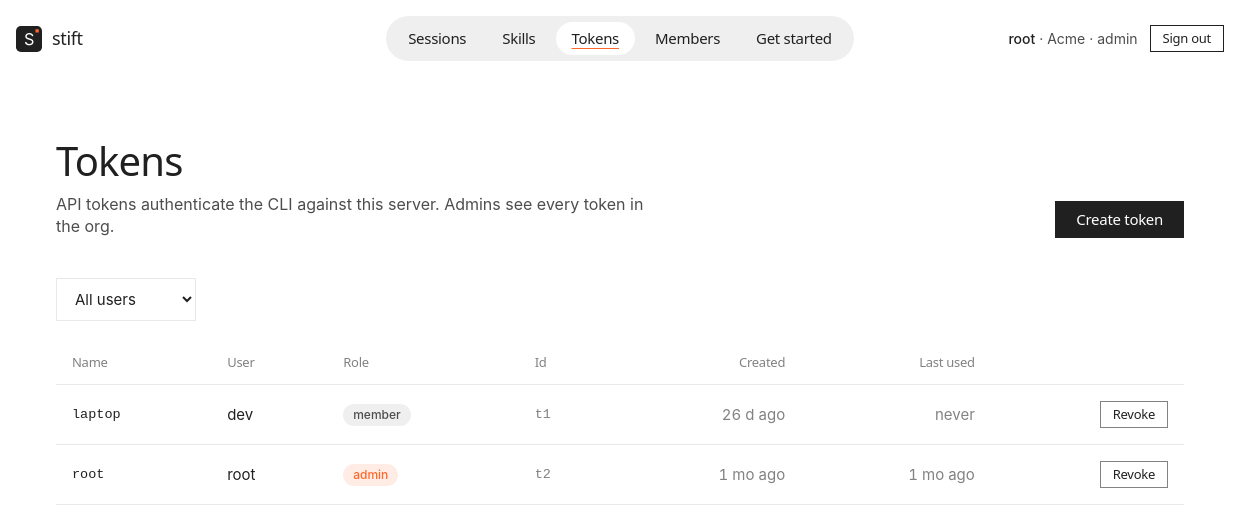
Test: revoke confirms inline and surfaces the server's refusal
Click the button "Revoke" in the row of "laptop": (1134, 415) [1100,401,1168,428]
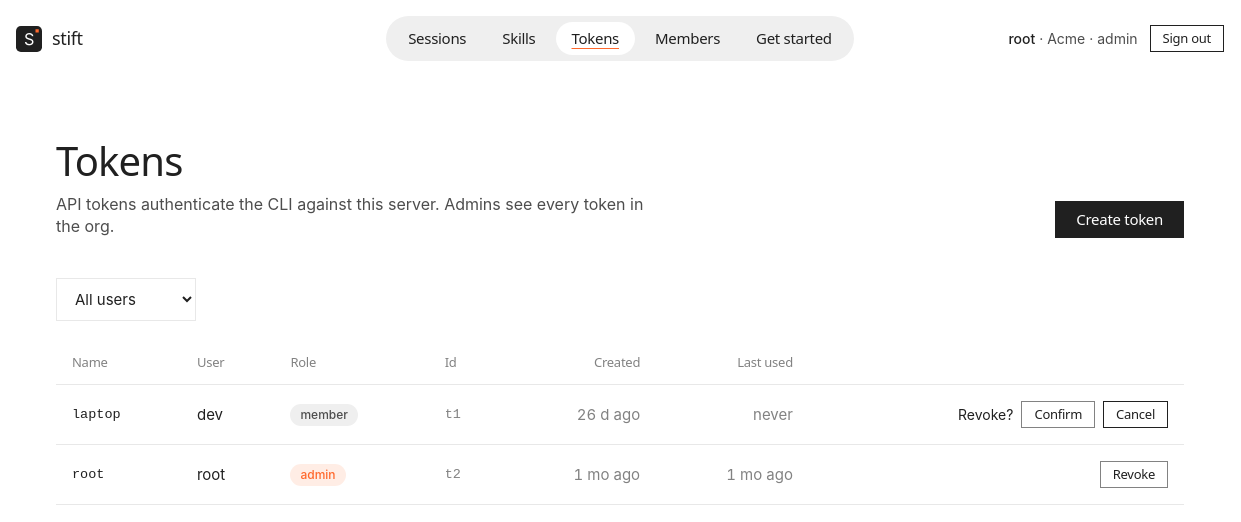
Click the button "Cancel": (1136, 415) [1103,401,1168,428]
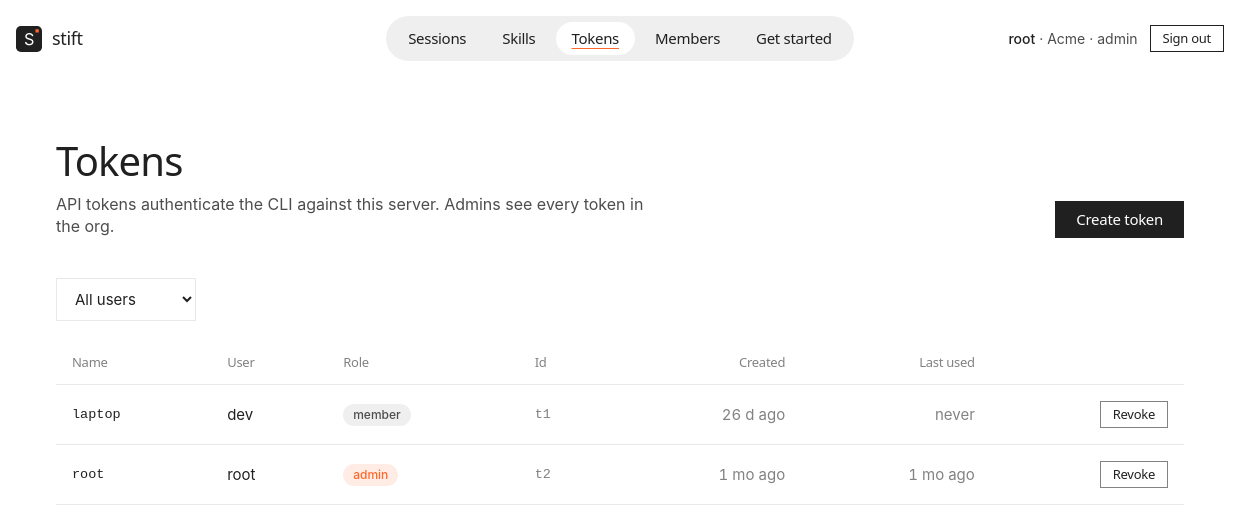
expect the text "Revoke?" is not shown: met
Click the button "Revoke" in the row of "laptop": (1134, 415) [1100,401,1168,428]
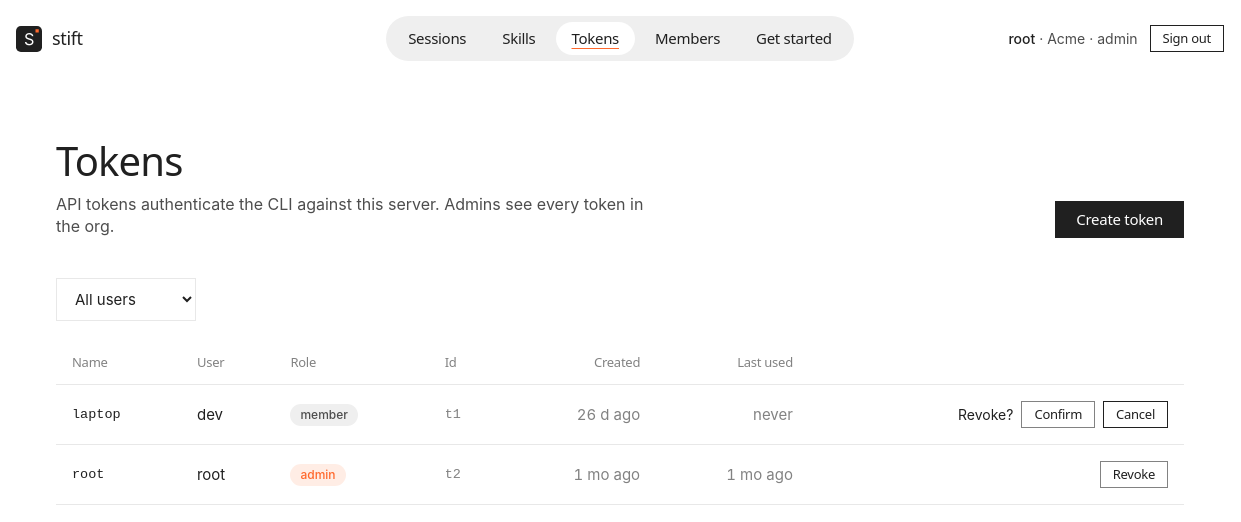
Click the button "Confirm": (1058, 415) [1021,401,1095,428]
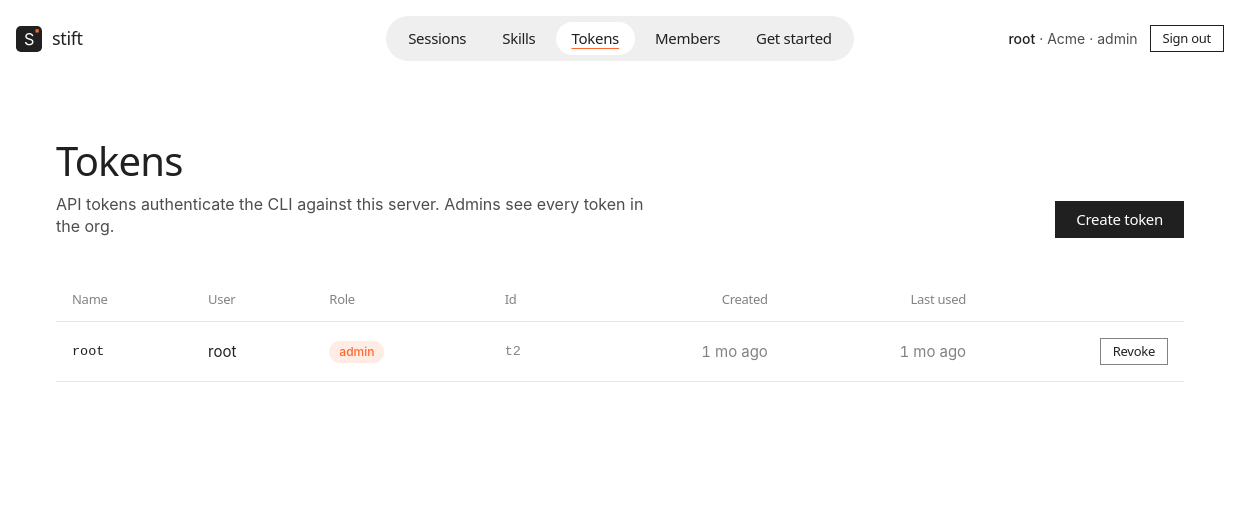
expect the text "laptop" is gone: met
Click the button "Revoke": (1134, 352) [1100,338,1168,365]
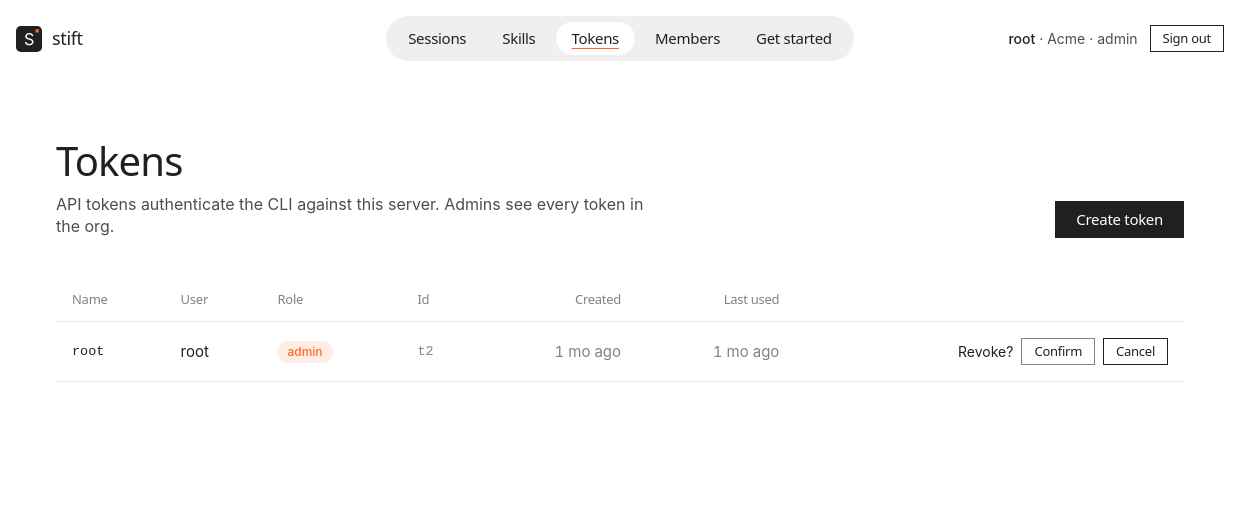
Click the button "Confirm": (1058, 352) [1021,338,1095,365]
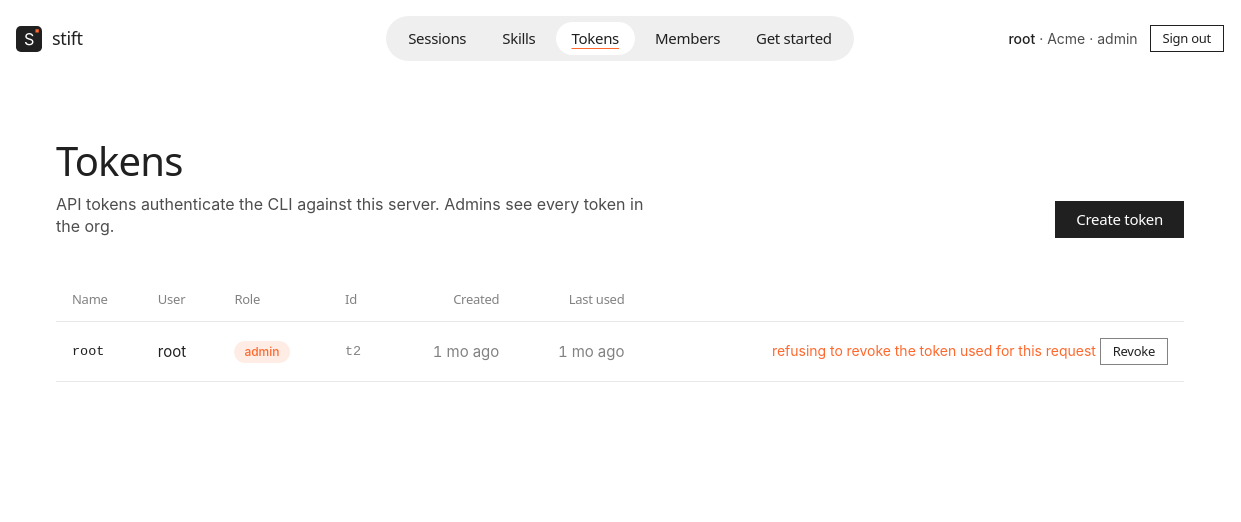
expect the 1st text "root" is shown: met, box [56,322,142,382]
expect the message shows "refusing to revoke": met, box [772,342,1096,359]
